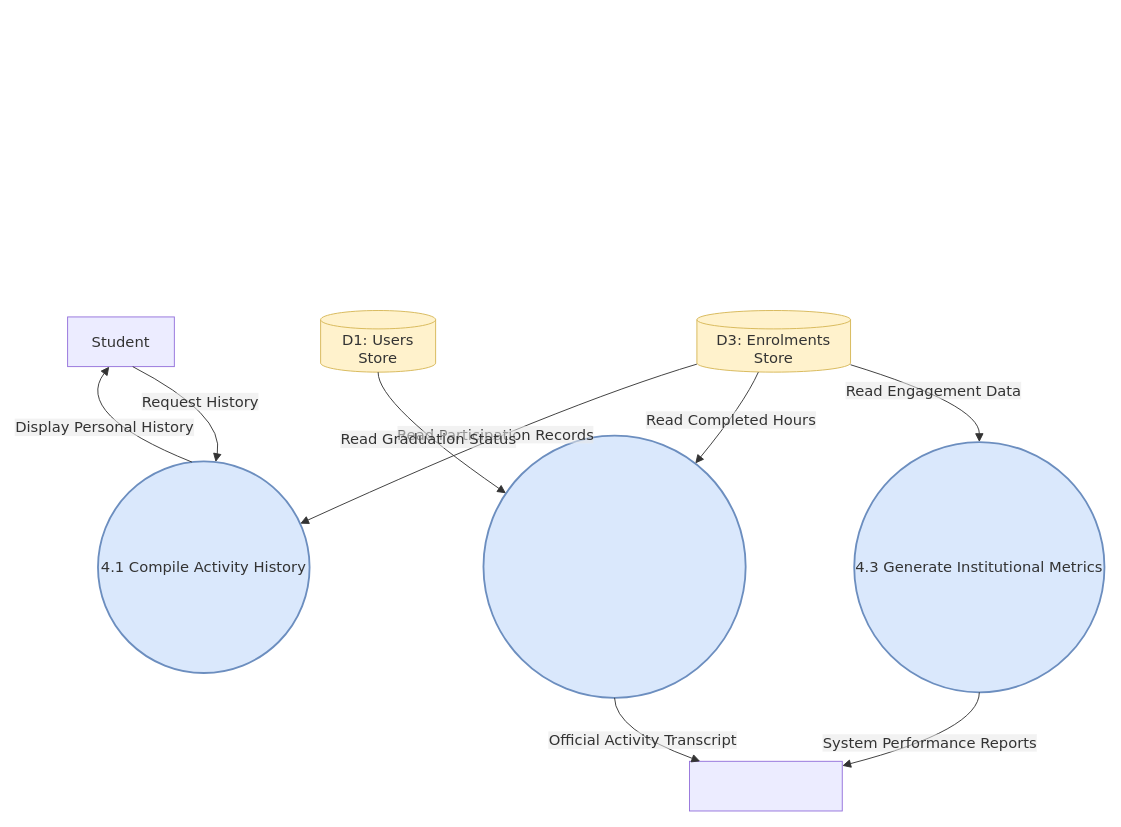
Some shapes in this 1121 by 827 pixel diagram are drawn without their labels. Each missing label, with the centre of its shape:
4.2 Generate Graduation Transcript: the point at 614,566
Student Affairs: the point at 765,785
